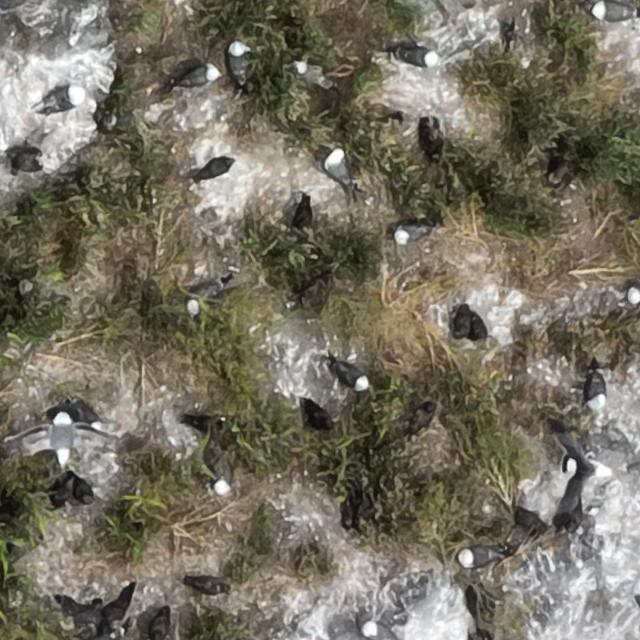F: (18, 408, 112, 466), (562, 434, 610, 511)
umineko: (188, 280, 222, 317), (44, 85, 84, 112), (73, 396, 104, 427), (587, 371, 607, 408), (296, 62, 328, 85), (326, 151, 348, 184), (397, 48, 435, 66), (215, 454, 232, 494), (340, 364, 367, 389), (595, 4, 631, 22), (462, 548, 498, 566), (182, 65, 215, 84), (364, 622, 396, 640), (396, 225, 426, 243), (228, 42, 248, 62), (627, 286, 639, 307)
